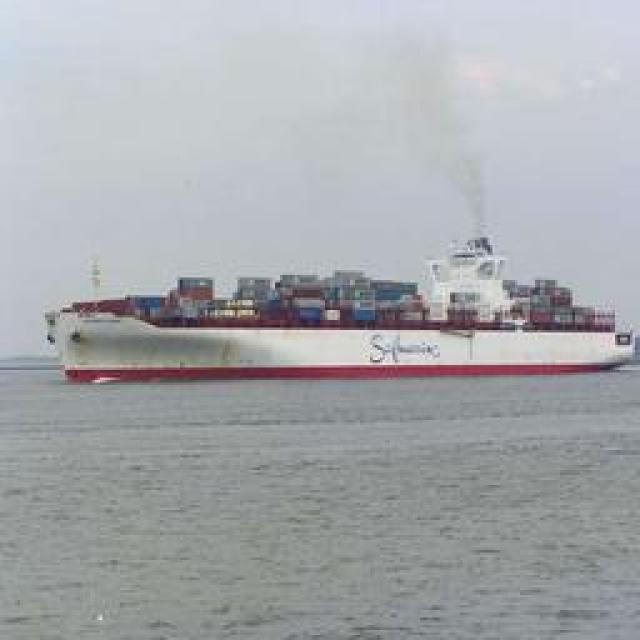ship2: (42, 237, 638, 383)
